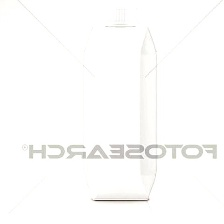carton: (79, 3, 159, 203)
